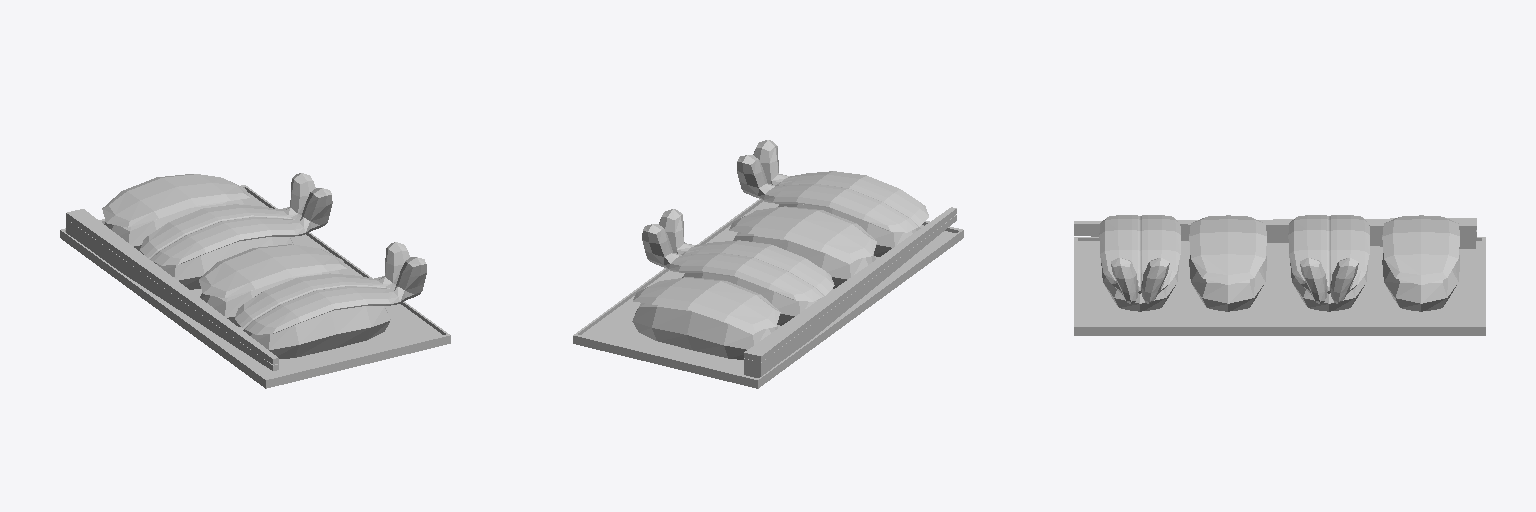
The model's file is bandeja sushi.obj.
3 renders of one model, left to right at view 1: azimuth 30°, elevation 25°; view 2: azimuth 150°, elevation 25°; view 3: azimuth 270°, elevation 25°, orthographic.
Visible parts, largest first — view 1: Plane; view 2: Plane; view 3: Plane.
Boxes of the visible parts, x1=… form: Plane: x1=60, y1=173, x2=450, y2=388; Plane: x1=573, y1=140, x2=963, y2=388; Plane: x1=1074, y1=215, x2=1485, y2=335.
Size of the model in its own units: 0.2828 by 0.1099 by 0.5426.